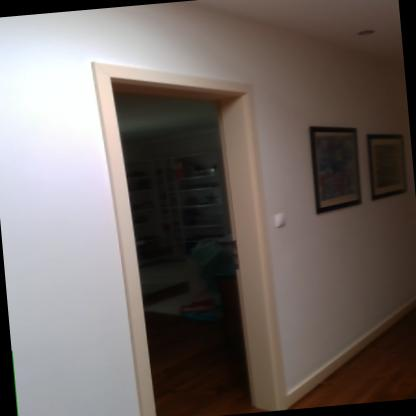open: (75, 39, 305, 415)
